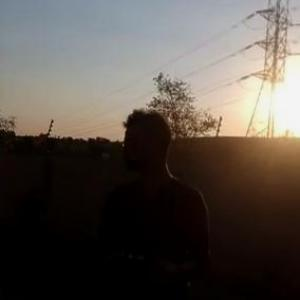follow: (81, 99, 208, 299)
